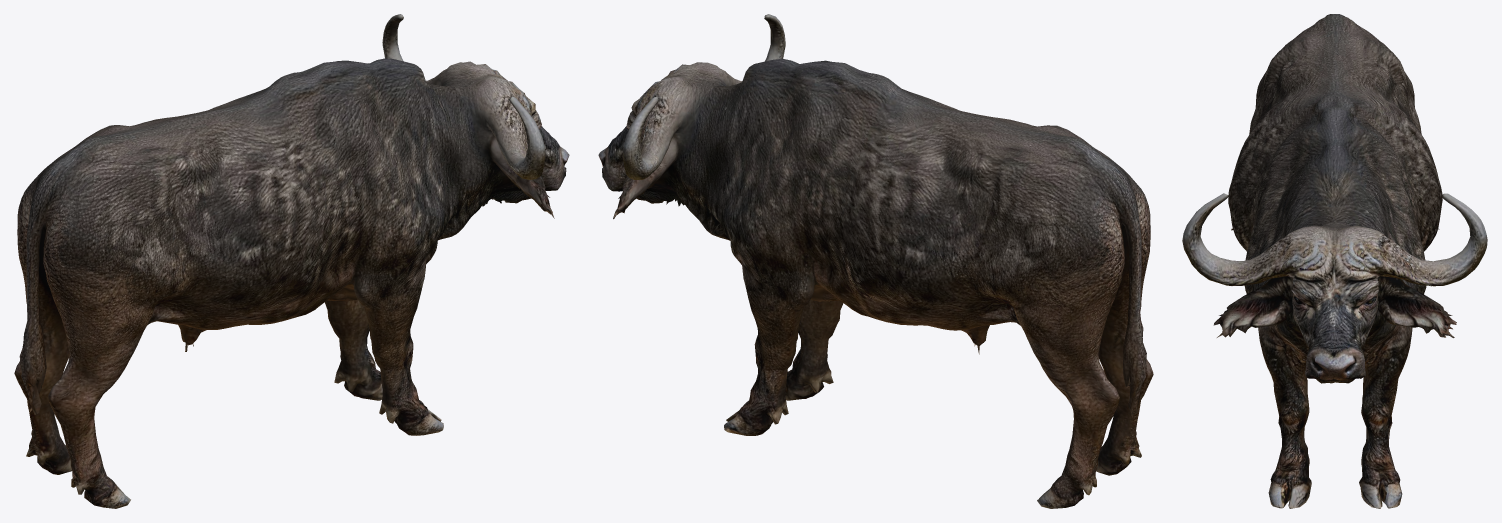
The model's file is buffalo.glb.
The picture shows the model from 3 angles, left to right: view 1: azimuth 30°, elevation 25°; view 2: azimuth 150°, elevation 25°; view 3: azimuth 270°, elevation 25°; orthographic projection.
Parts seen in each view (by area): view 1: tripo_node_a00de91c-1bff-4c91-9e8c-70c92d9d6554; view 2: tripo_node_a00de91c-1bff-4c91-9e8c-70c92d9d6554; view 3: tripo_node_a00de91c-1bff-4c91-9e8c-70c92d9d6554.
Boxes of the visible parts, x1,y1,x2,y2 form: tripo_node_a00de91c-1bff-4c91-9e8c-70c92d9d6554: (14, 14, 569, 508); tripo_node_a00de91c-1bff-4c91-9e8c-70c92d9d6554: (598, 14, 1153, 508); tripo_node_a00de91c-1bff-4c91-9e8c-70c92d9d6554: (1182, 14, 1487, 508).
Size of the model in its own units: 1 by 0.6371 by 0.4926.
Materials: 1 (1 with a texture image).
